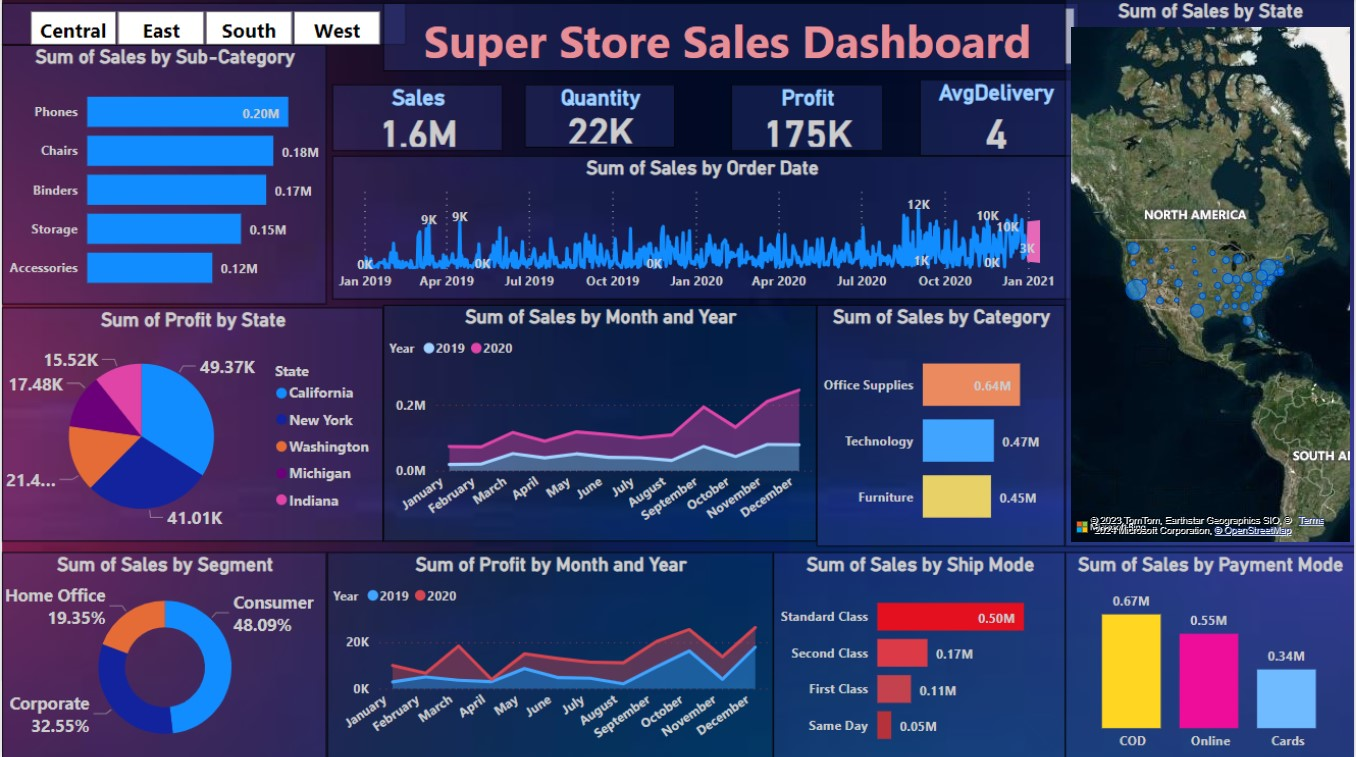

This screenshot's page, from the dashboard's own definition file:
{"tool":"powerbi","page":{"name":"Page 1","canvas":[1280,720],"ordinal":0},"visuals":[{"type":"clusteredBarChart","fields":{"Category":["SuperStore_Sales_Dataset.Category","SuperStore_Sales_Dataset.Sub-Category"],"Y":["Sum(SuperStore_Sales_Dataset.Sales)"]},"box":[770.7,289.4,235.2,229.1],"z":0},{"type":"clusteredBarChart","fields":{"Category":["SuperStore_Sales_Dataset.Sub-Category"],"Y":["Sum(SuperStore_Sales_Dataset.Sales)"]},"box":[0,43.9,307.1,245.4],"z":1000},{"type":"clusteredBarChart","fields":{"Category":["SuperStore_Sales_Dataset.Ship Mode"],"Y":["Sum(SuperStore_Sales_Dataset.Sales)"]},"box":[729.4,523.7,277,196.1],"z":2000},{"type":"stackedAreaChart","fields":{"Y":["Sum(SuperStore_Sales_Dataset.Sales)"],"Category":["SuperStore_Sales_Dataset.Order Date.Variation.Date Hierarchy.Month"],"Series":["SuperStore_Sales_Dataset.Order Date.Variation.Date Hierarchy.Year"]},"box":[360.6,289.4,410.1,224.3],"z":3000},{"type":"stackedAreaChart","fields":{"Category":["SuperStore_Sales_Dataset.Order Date.Variation.Date Hierarchy.Month"],"Series":["SuperStore_Sales_Dataset.Order Date.Variation.Date Hierarchy.Year"],"Y":["Sum(SuperStore_Sales_Dataset.Profit)"]},"box":[307.5,523.4,422.1,196.6],"z":4000},{"type":"pieChart","fields":{"Category":["SuperStore_Sales_Dataset.State"],"Y":["Sum(SuperStore_Sales_Dataset.Profit)"]},"box":[0,291.9,360.6,221.9],"z":5000},{"type":"clusteredColumnChart","fields":{"Y":["Sum(SuperStore_Sales_Dataset.Sales)"],"Category":["SuperStore_Sales_Dataset.Payment Mode"]},"box":[1006.3,523.7,274.2,196.1],"z":6000},{"type":"donutChart","fields":{"Category":["SuperStore_Sales_Dataset.Segment"],"Y":["Sum(SuperStore_Sales_Dataset.Sales)"]},"box":[0,523.7,307.1,196.1],"z":7000},{"type":"slicer","fields":{"Values":["SuperStore_Sales_Dataset.Region"]},"box":[0,3.6,382.3,39.8],"z":8000},{"type":"card","title":"Quantity","fields":{"Values":["Sum(SuperStore_Sales_Dataset.Quantity)"]},"box":[494.9,80.9,142.6,60.3],"z":9000},{"type":"card","title":"Profit","fields":{"Values":["Sum(SuperStore_Sales_Dataset.Profit)"]},"box":[689.6,80.9,144,63.1],"z":10000},{"type":"card","title":"Sales","fields":{"Values":["Sum(SuperStore_Sales_Dataset.Sales)"]},"box":[312.6,80.9,161.8,63.1],"z":11000},{"type":"card","title":"AvgDelivery","fields":{"Values":["Avg(SuperStore_Sales_Dataset.AvgDelivery)"]},"box":[867.9,75.4,144,72.7],"z":12000},{"type":"lineChart","fields":{"Y":["Sum(SuperStore_Sales_Dataset.Sales)"],"Category":["SuperStore_Sales_Dataset.Order Date"]},"box":[312.6,148.1,699.2,135.7],"z":13000},{"type":"textbox","box":[360.6,4.1,658.1,64.4],"z":14000},{"type":"map","fields":{"Category":["SuperStore_Sales_Dataset.State"],"Size":["Sum(SuperStore_Sales_Dataset.Sales)"]},"box":[1006.3,0,274.2,518.3],"z":15000}]}

Visuals, with their boxes in screenshot pixels (x1, y1, x2, y2), scaled from the page's 1280x720 canvas onto the 1356x757 screenshot:
clusteredBarChart - SuperStore_Sales_Dataset.Category x SuperStore_Sales_Dataset.Sub-Category: rect(816, 304, 1066, 545)
clusteredBarChart - SuperStore_Sales_Dataset.Sub-Category x Sum(SuperStore_Sales_Dataset.Sales): rect(0, 46, 325, 304)
clusteredBarChart - SuperStore_Sales_Dataset.Ship Mode x Sum(SuperStore_Sales_Dataset.Sales): rect(773, 551, 1066, 756)
stackedAreaChart - Sum(SuperStore_Sales_Dataset.Sales) x SuperStore_Sales_Dataset.Order Date.Variation.Date Hierarchy.Month: rect(382, 304, 816, 540)
stackedAreaChart - SuperStore_Sales_Dataset.Order Date.Variation.Date Hierarchy.Month x SuperStore_Sales_Dataset.Order Date.Variation.Date Hierarchy.Year: rect(326, 550, 773, 756)
pieChart - SuperStore_Sales_Dataset.State x Sum(SuperStore_Sales_Dataset.Profit): rect(0, 307, 382, 540)
clusteredColumnChart - Sum(SuperStore_Sales_Dataset.Sales) x SuperStore_Sales_Dataset.Payment Mode: rect(1066, 551, 1355, 756)
donutChart - SuperStore_Sales_Dataset.Segment x Sum(SuperStore_Sales_Dataset.Sales): rect(0, 551, 325, 756)
slicer - SuperStore_Sales_Dataset.Region: rect(0, 4, 405, 46)
"Quantity" card: rect(524, 85, 675, 148)
"Profit" card: rect(731, 85, 883, 151)
"Sales" card: rect(331, 85, 503, 151)
"AvgDelivery" card: rect(919, 79, 1072, 156)
lineChart - Sum(SuperStore_Sales_Dataset.Sales) x SuperStore_Sales_Dataset.Order Date: rect(331, 156, 1072, 298)
textbox: rect(382, 4, 1079, 72)
map - SuperStore_Sales_Dataset.State x Sum(SuperStore_Sales_Dataset.Sales): rect(1066, 0, 1355, 545)
